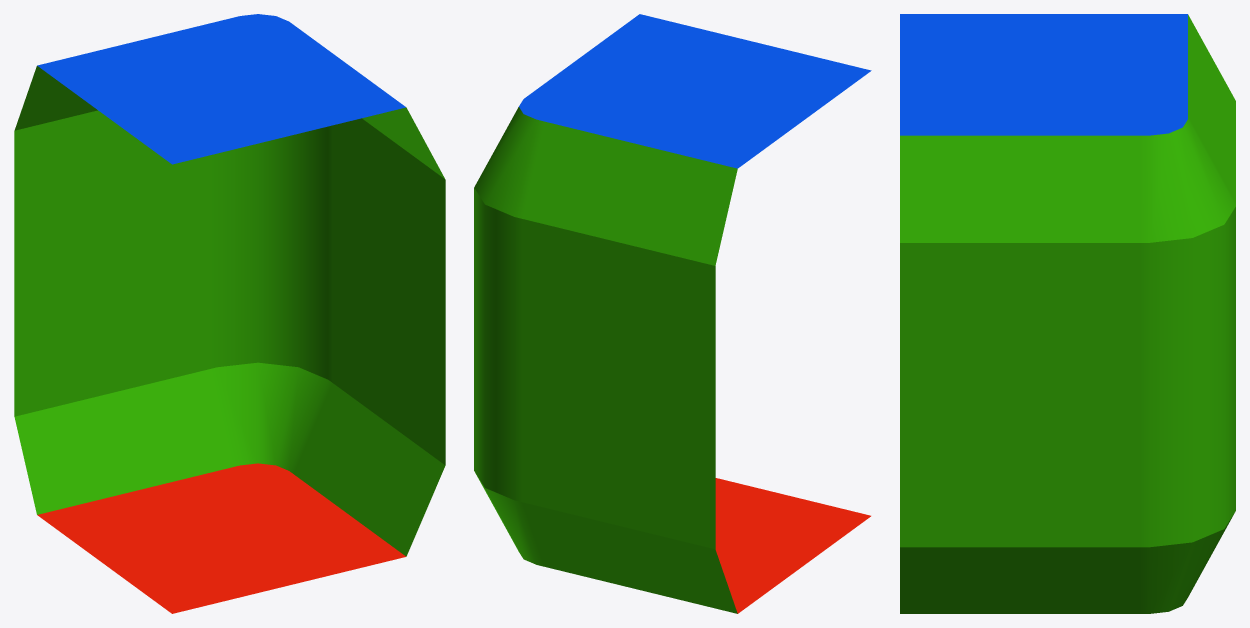
The model's file is outside_corner_rounded.FBX.
3 views of the same model, side by side, from view 1: azimuth 30°, elevation 25°; view 2: azimuth 150°, elevation 25°; view 3: azimuth 270°, elevation 25° (orthographic). The views are drawn at different scales.
Visible parts, largest first — view 1: Line013; view 2: Line013; view 3: Line013.
Part boxes in pixels (x1=…): Line013: x1=14, y1=14, x2=445, y2=613; Line013: x1=474, y1=14, x2=871, y2=613; Line013: x1=900, y1=14, x2=1235, y2=613.
Size of the model in its own units: 68.9 by 108 by 68.9.
